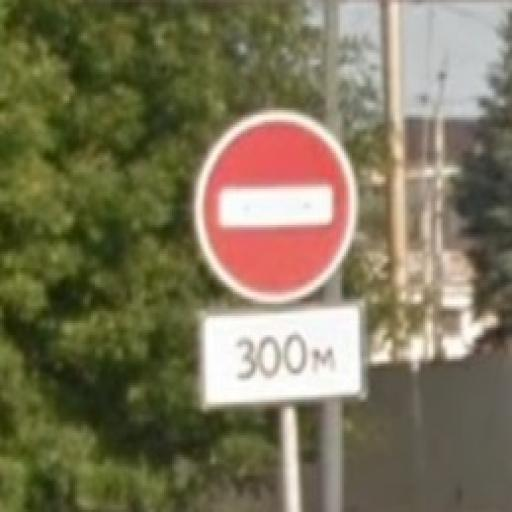traffic_sign: (195, 111, 359, 305)
